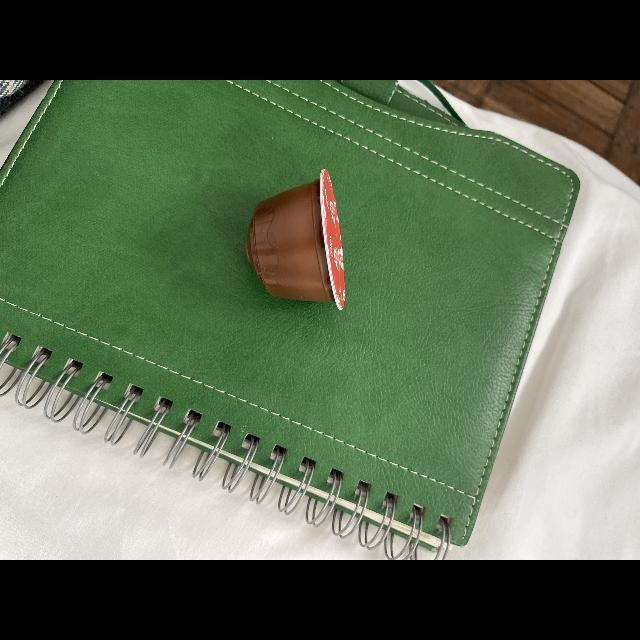intact_capsule: (239, 163, 361, 321)
